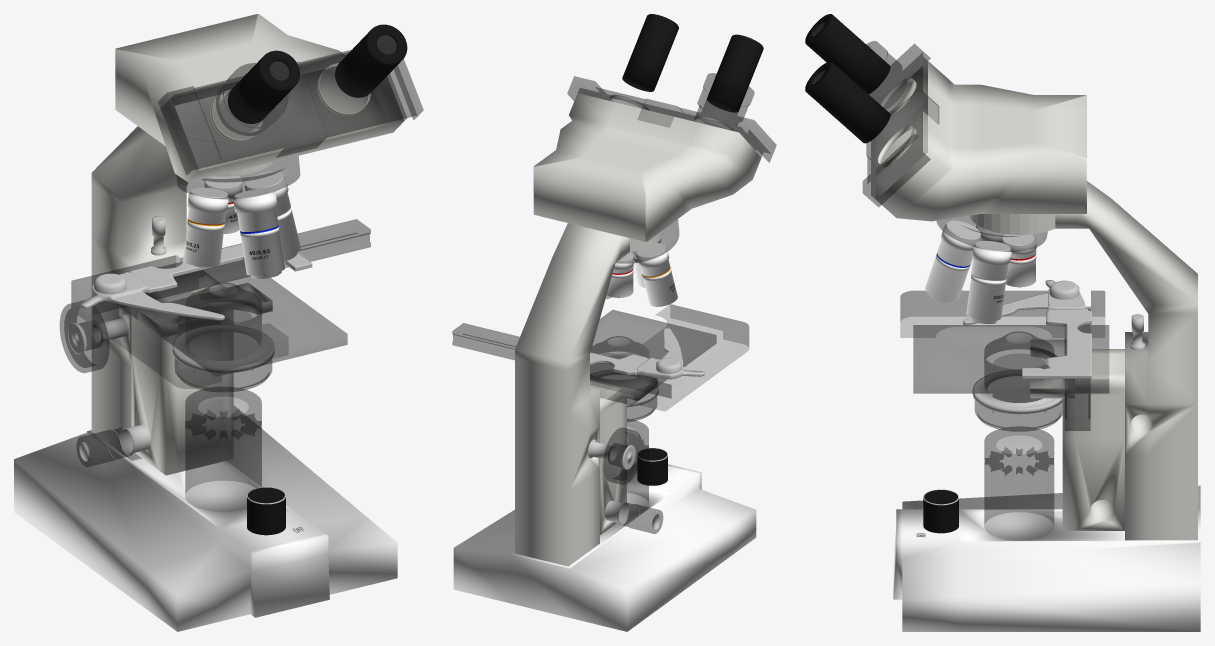
Rendered from microscopio.glb.
3 renders of one model, left to right at view 1: azimuth 30°, elevation 25°; view 2: azimuth 150°, elevation 25°; view 3: azimuth 270°, elevation 25°, orthographic. The views are drawn at different scales.
Visible parts, largest first — view 1: base1_0, head_5, base3_17, base2_1, head.001_7, tray_18, tray2_19, lamp_4, objective_9, condenser_23, 40x_13, rail_16 (+11 smaller); view 2: base2_1, base1_0, head_5, tray_18, objective_9, tray2_19, base3_17, head.001_7, objective-lower_8, focusknob_3, rail_16, 10x_14 (+8 smaller); view 3: base1_0, head_5, base2_1, base3_17, tray2_19, lamp_4, objective_9, condenser_23, head.001_7, tray_18, 100x_15, 40x_13 (+7 smaller).
Boxes of the visible parts, bbox=[...] form: base1_0: bbox=[14, 405, 397, 631]; head_5: bbox=[115, 14, 406, 182]; base3_17: bbox=[131, 270, 272, 475]; base2_1: bbox=[91, 126, 274, 460]; head.001_7: bbox=[158, 50, 423, 174]; tray_18: bbox=[71, 255, 288, 388]; tray2_19: bbox=[122, 262, 347, 376]; lamp_4: bbox=[185, 387, 261, 511]; objective_9: bbox=[227, 24, 407, 123]; condenser_23: bbox=[172, 282, 274, 392]; 40x_13: bbox=[233, 188, 284, 279]; rail_16: bbox=[158, 219, 370, 290]; base2_1: bbox=[515, 223, 662, 566]; base1_0: bbox=[453, 463, 756, 631]; head_5: bbox=[533, 88, 763, 241]; tray_18: bbox=[590, 304, 748, 410]; objective_9: bbox=[622, 14, 763, 112]; tray2_19: bbox=[590, 310, 716, 405]; base3_17: bbox=[590, 374, 657, 534]; head.001_7: bbox=[567, 76, 776, 162]; objective-lower_8: bbox=[696, 73, 754, 128]; focusknob_3: bbox=[588, 427, 642, 484]; rail_16: bbox=[452, 323, 649, 382]; 10x_14: bbox=[636, 242, 677, 306]; base1_0: bbox=[893, 485, 1200, 631]; head_5: bbox=[871, 57, 1086, 221]; base2_1: bbox=[970, 181, 1197, 540]; base3_17: bbox=[1030, 339, 1124, 530]; tray2_19: bbox=[913, 325, 1108, 393]; lamp_4: bbox=[984, 426, 1054, 540]; objective_9: bbox=[805, 14, 890, 143]; condenser_23: bbox=[972, 331, 1062, 431]; head.001_7: bbox=[863, 44, 938, 206]; tray_18: bbox=[900, 291, 1104, 337]; 100x_15: bbox=[966, 241, 1011, 323]; 40x_13: bbox=[925, 220, 981, 302].
Bounding box in the file's own units: 0.1755 × 0.3501 × 0.2215.
Materials: 16 (4 with a texture image).
